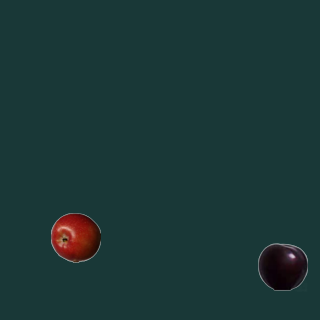Apple Braeburn: (50, 212, 100, 262)
Cherry Wax Black: (257, 241, 307, 291)
